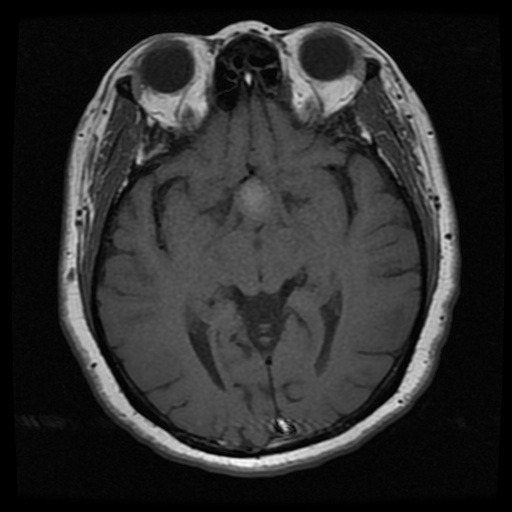pituitary: (239, 176, 273, 215)
